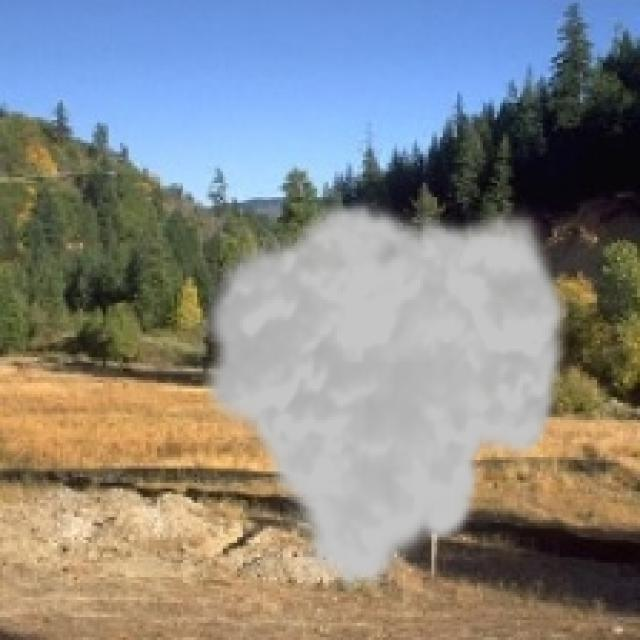smoke: (192, 197, 574, 600)
